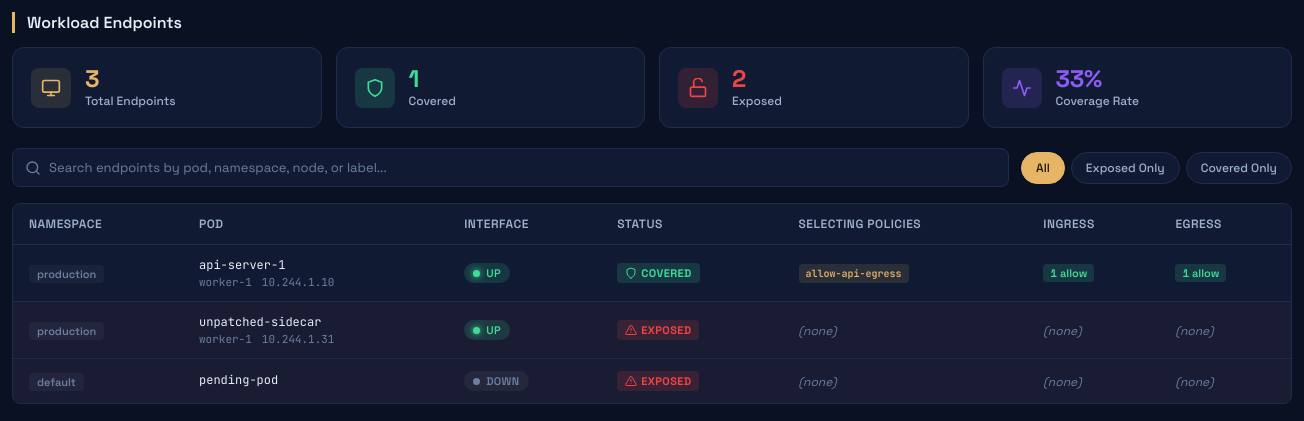
WorkloadEndpointsPanel › filters to exposed pods only when chip clicked
Click the button "Exposed Only": (1125, 168) [1071, 152, 1180, 184]
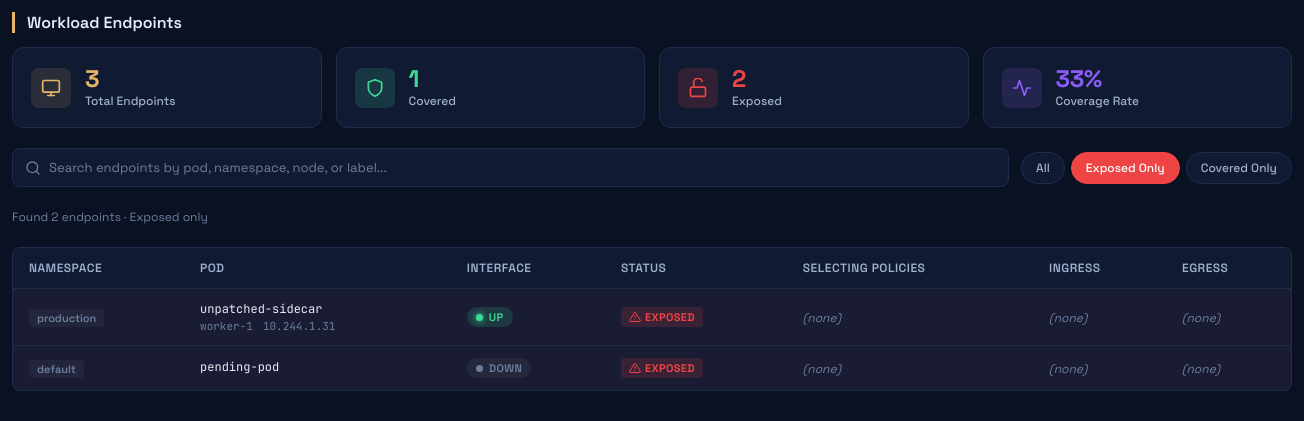
Expected: the text "unpatched-sidecar" is shown, [200, 301, 322, 317]
Result: the text "api-server-1" is gone
